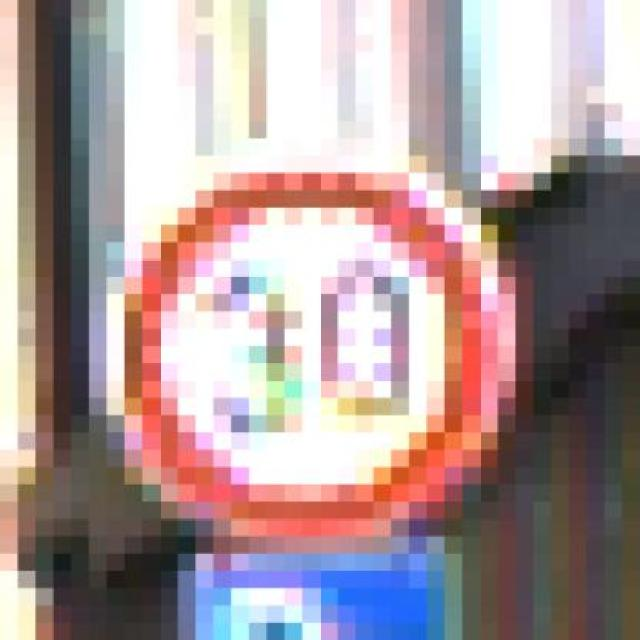Speed Limit 30 KMPh: (89, 104, 533, 536)
